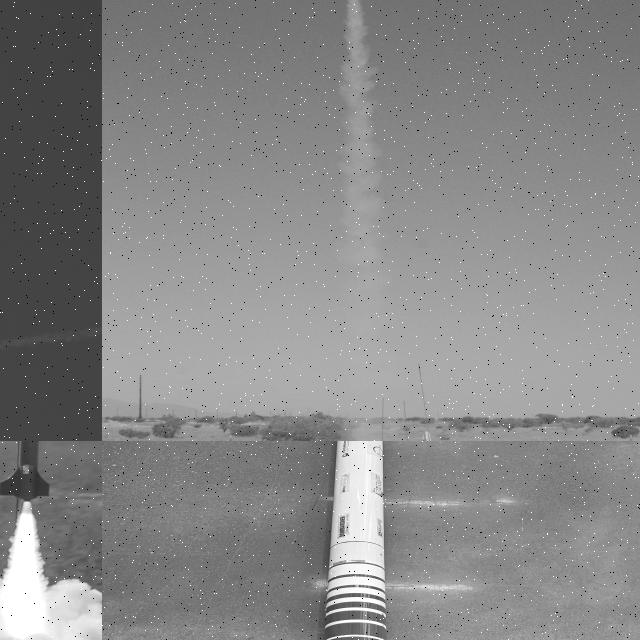Rocket: (324, 441, 387, 640), (0, 441, 51, 501), (421, 430, 446, 441)
